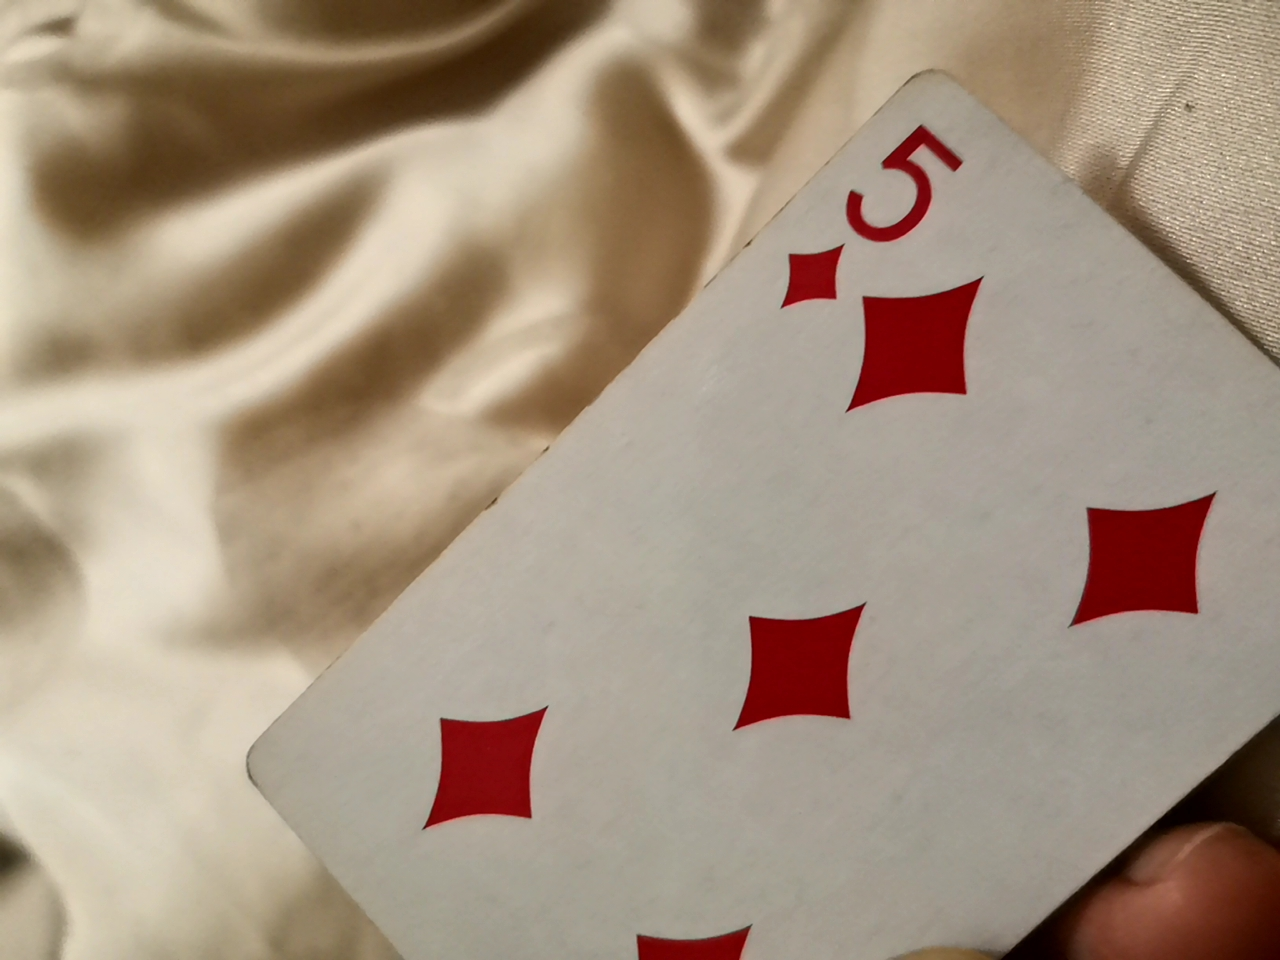fk 5: (120, 91, 1270, 953)
